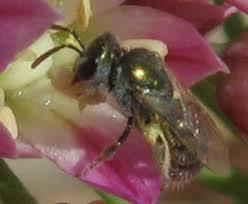Seladonia: (40, 10, 216, 183)
